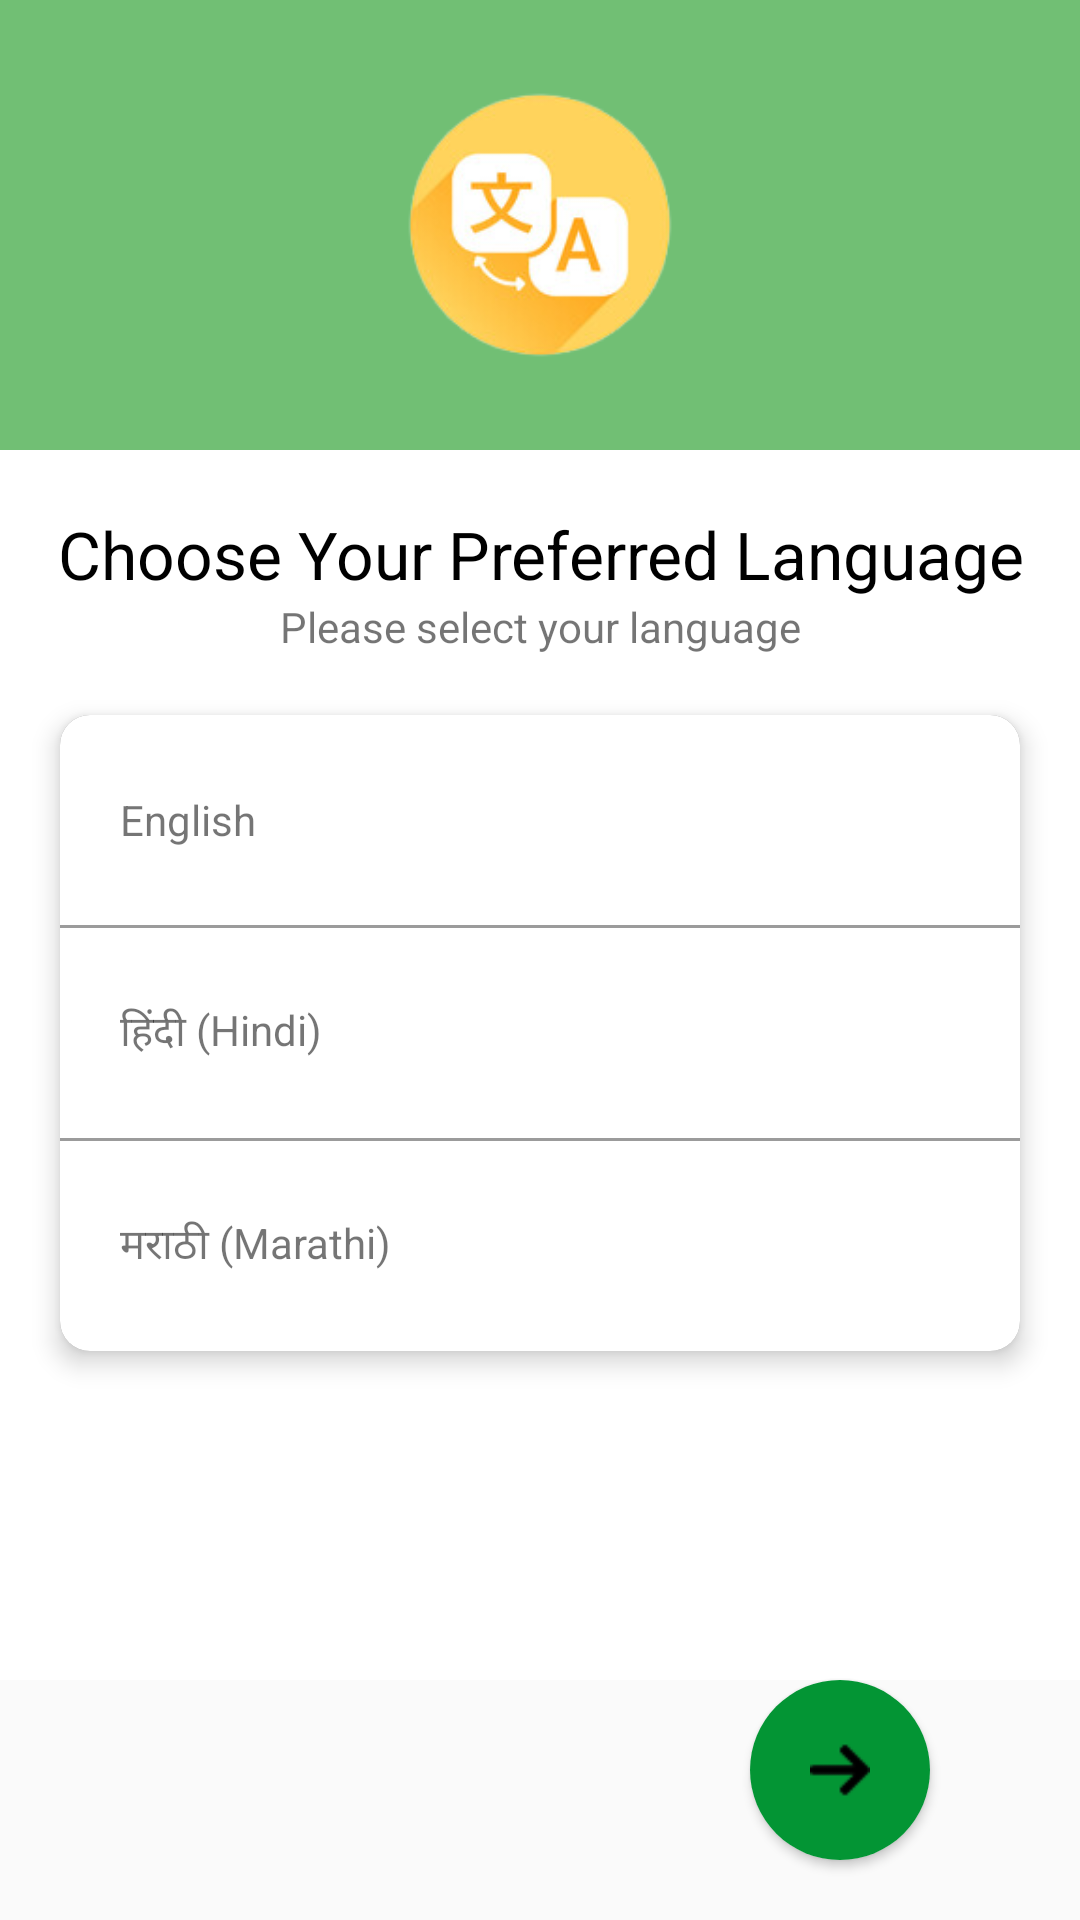

Icons on this 1080px×1920px Android screen, each with the point to tap as point (x, y):
rightarrow: point (840, 1770)
